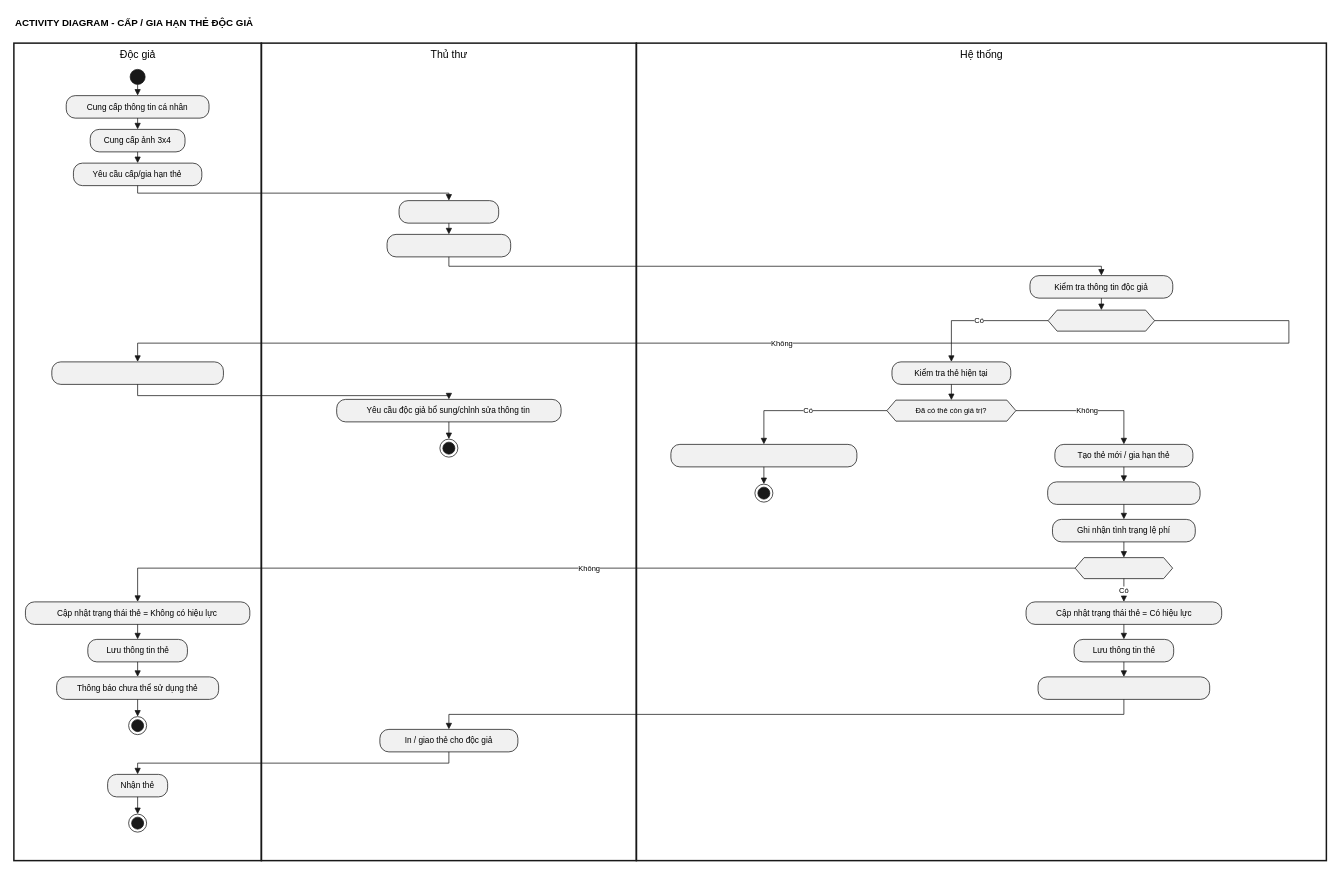
This 1340x874 diagram has some shape labels left out. The shapes that lost their labels are listed below. From the top down, each one's centre as x and y in pixels, then its label:
At pixel 448 211: "Tiếp nhận yêu cầu".
At pixel 448 245: "Nhập thông tin độc giả".
At pixel 1101 320: "Thông tin hợp lệ?".
At pixel 137 372: "Thông báo thông tin không hợp lệ".
At pixel 763 455: "Thông báo thẻ hiện tại còn hiệu lực".
At pixel 1123 492: "Nhập ngày cấp và hạn sử dụng".
At pixel 1123 568: "Đã đóng lệ phí?".
At pixel 1123 687: "Thông báo cấp/gia hạn thành công".
